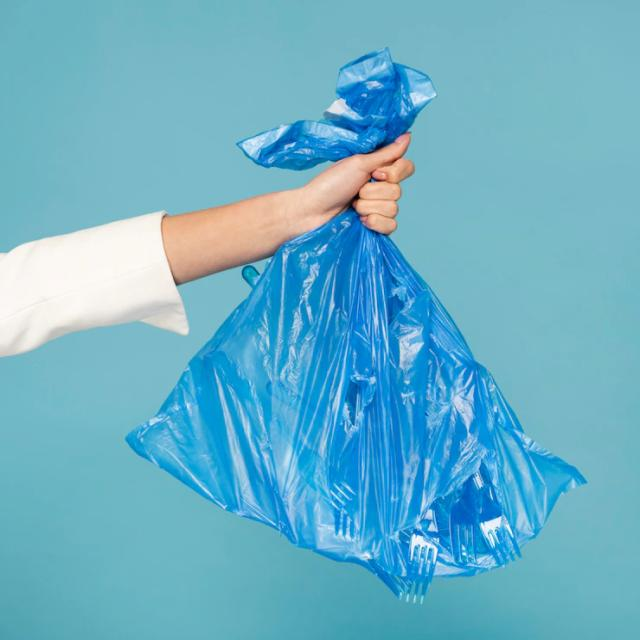plastic_bag: (89, 9, 632, 618)
